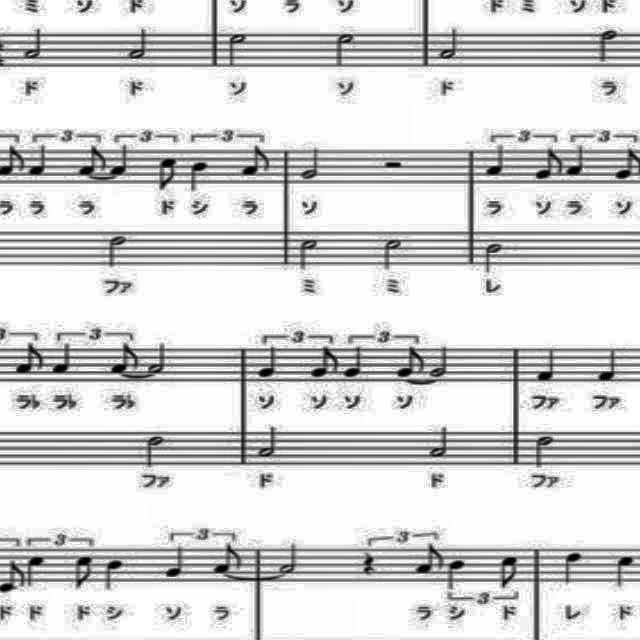Eighth-note: (410, 540, 446, 576), (532, 144, 564, 184), (109, 340, 143, 376), (306, 344, 340, 380), (76, 143, 108, 181), (392, 344, 424, 381), (240, 144, 272, 180), (210, 540, 242, 576), (497, 550, 523, 594), (13, 342, 44, 376), (153, 152, 179, 192), (72, 550, 95, 594)
Half-note: (589, 23, 623, 69), (122, 20, 154, 64), (252, 421, 284, 464), (432, 19, 461, 65), (296, 232, 326, 276), (428, 420, 457, 464), (529, 430, 559, 470), (426, 337, 454, 379), (295, 143, 325, 181), (19, 22, 47, 62), (378, 232, 406, 272), (143, 426, 169, 469), (332, 28, 356, 74), (481, 237, 507, 279), (276, 539, 304, 577), (226, 26, 250, 70), (105, 234, 131, 270), (146, 339, 170, 377)
Half-rest: (380, 157, 408, 171)
Quarter-note: (532, 344, 564, 388), (594, 340, 622, 388), (182, 156, 214, 196), (481, 142, 512, 182), (159, 545, 191, 583), (100, 554, 130, 594), (444, 554, 472, 596), (559, 544, 585, 588), (564, 142, 592, 182), (48, 338, 76, 378), (340, 342, 368, 382), (610, 551, 638, 589), (108, 141, 136, 179), (24, 546, 48, 590), (254, 344, 282, 380), (26, 142, 50, 182)
Quarter-rest: (360, 547, 380, 583)
